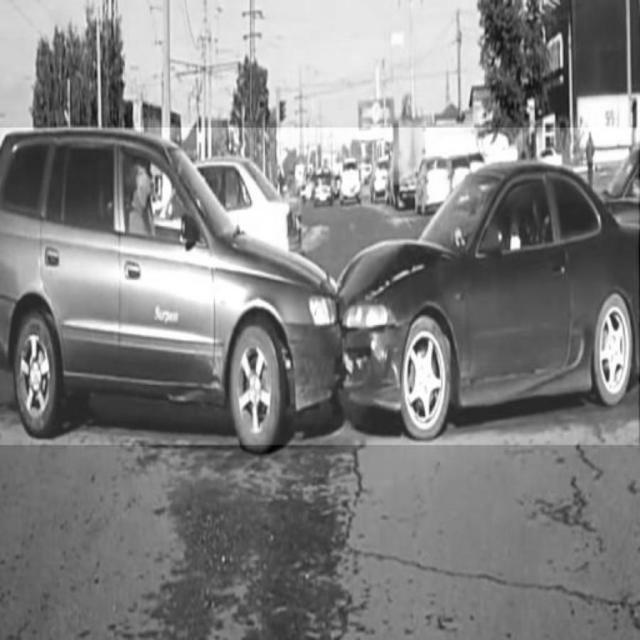accident: (0, 126, 638, 445)
